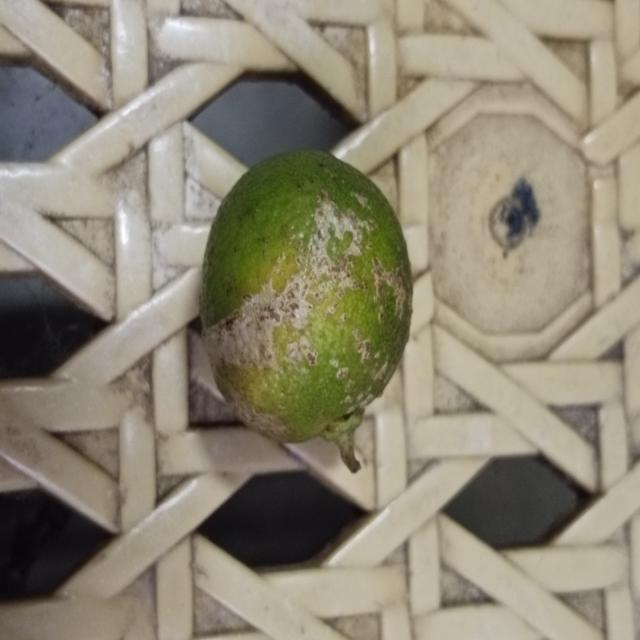thrips: (193, 145, 414, 455)
